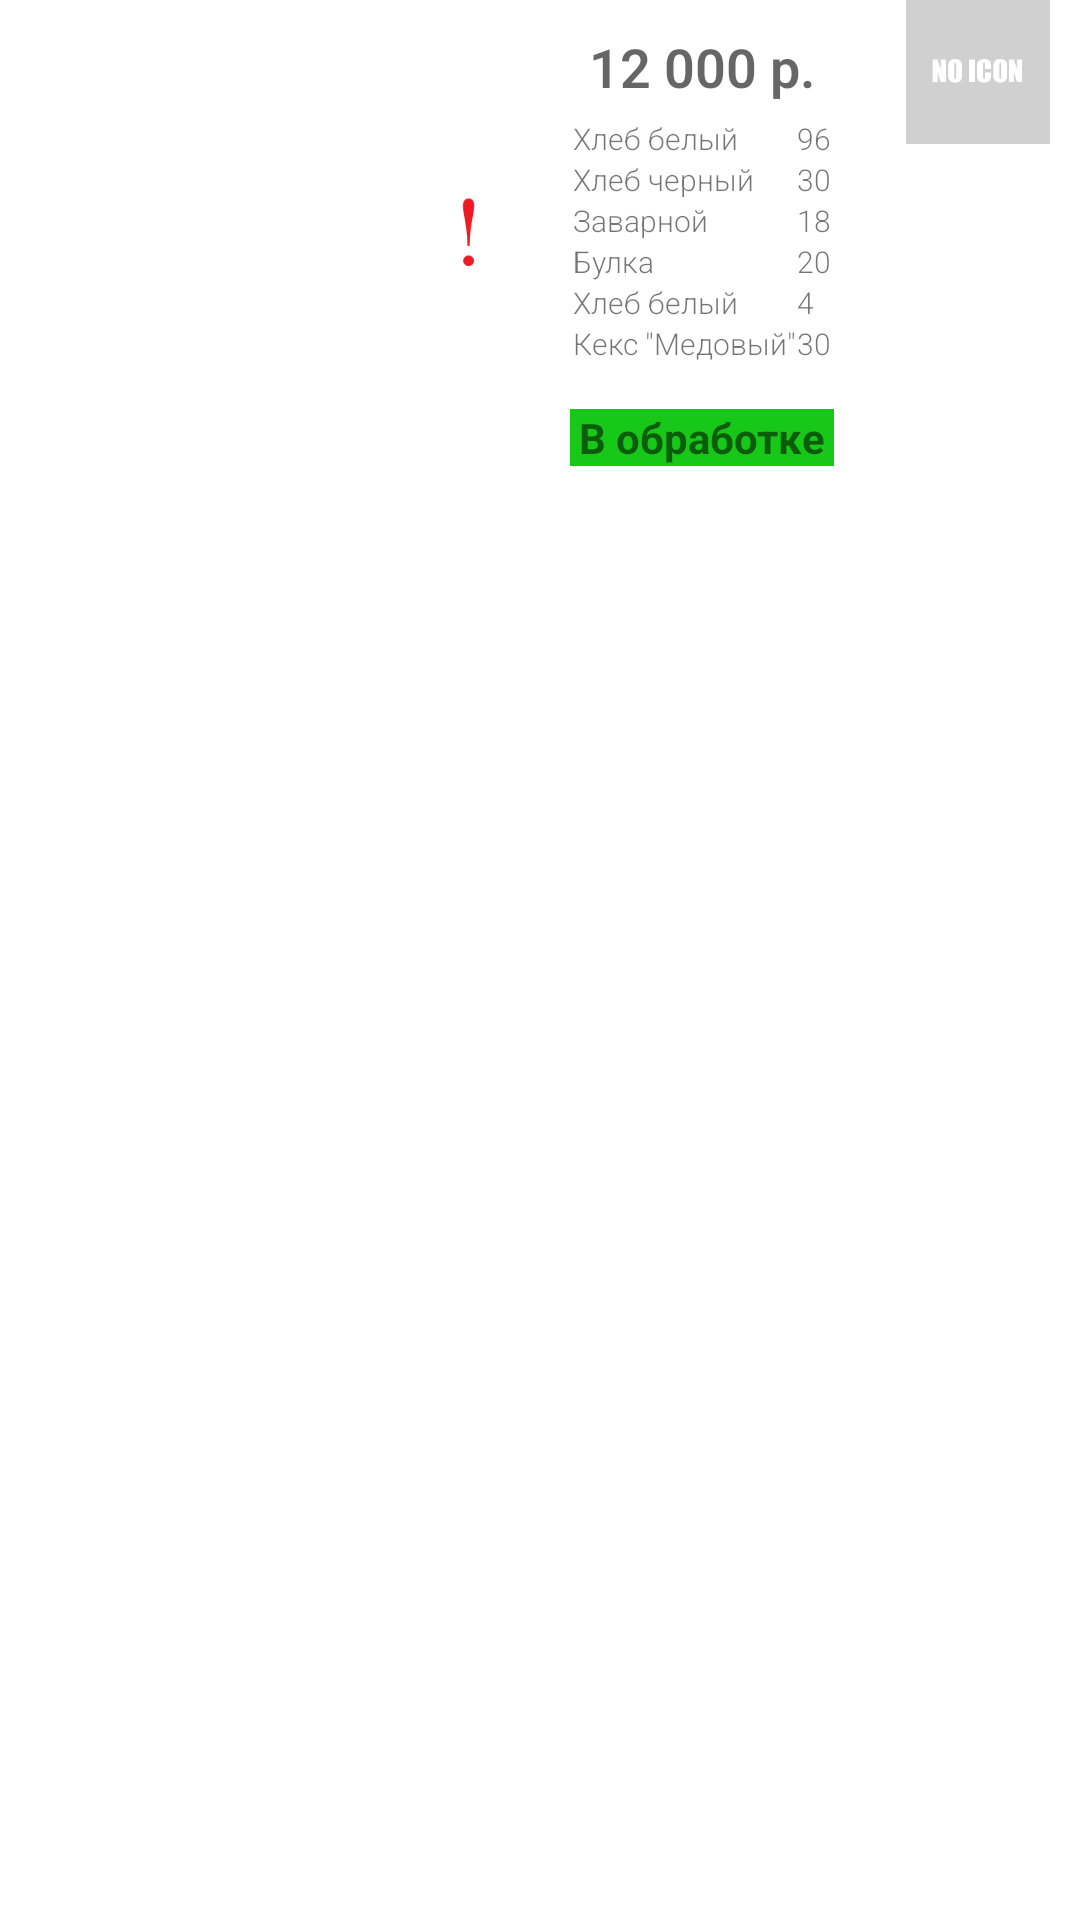

Named icons in this screenshot (1080w x 1920h) and their bounding boxes, (x1, y1, x2, y2):
message failed: (462, 198, 475, 266)
